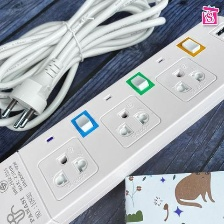three_eye_plug: (0, 12, 224, 223)
